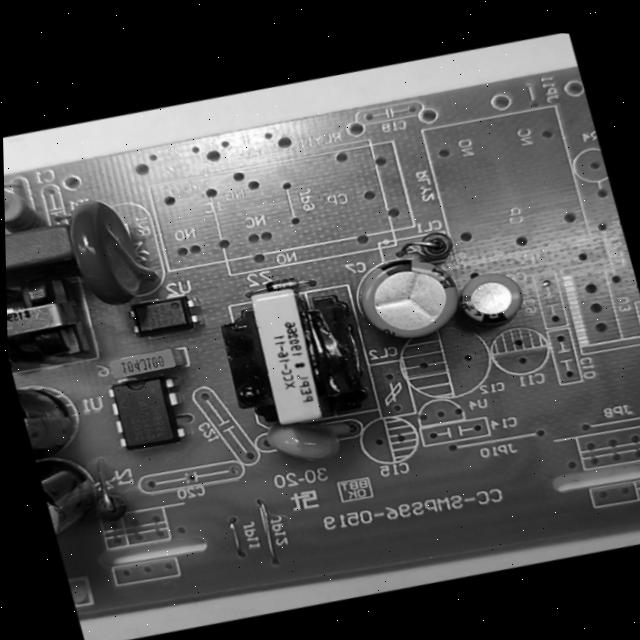Cap1: (339, 236, 469, 356)
Cap2: (446, 261, 529, 334)
Cap3: (13, 364, 87, 464)
Cap4: (36, 447, 119, 557)
MOSFET: (102, 361, 196, 454)
Mov: (55, 186, 155, 317)
Resistor: (4, 176, 50, 241)
Transformer: (208, 270, 384, 450), (6, 259, 98, 379)
